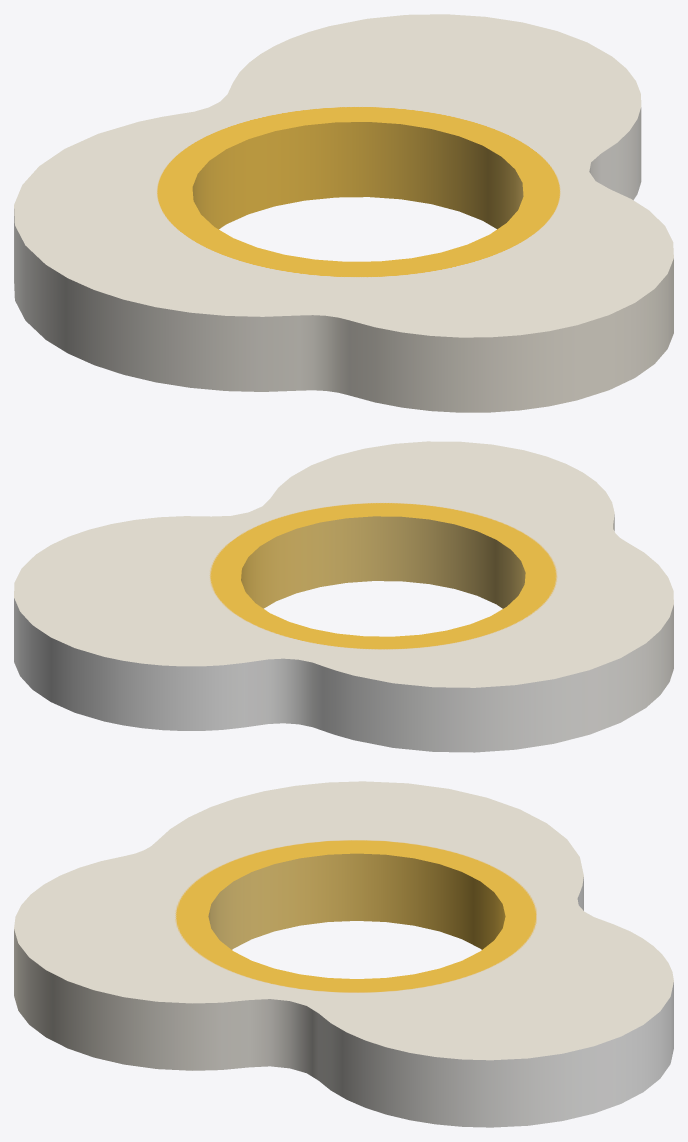
File: omelet.FBX
3 renders of one model, top to bottom at view 1: azimuth 30°, elevation 25°; view 2: azimuth 150°, elevation 25°; view 3: azimuth 270°, elevation 25°, orthographic. The views are drawn at different scales.
Visible parts, largest first — view 1: Omelet; view 2: Omelet; view 3: Omelet.
Boxes of the visible parts, left/top/right/bottom form: Omelet: left=14, top=14, right=673, bottom=412; Omelet: left=14, top=441, right=673, bottom=752; Omelet: left=14, top=781, right=673, bottom=1127.
Bounding box in the file's own units: 62.19 × 7 × 62.18.
Materials: 1 (1 with a texture image).
